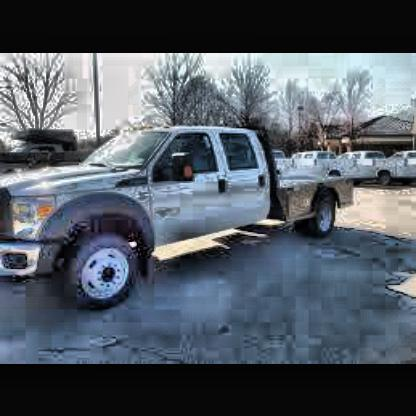Ford F-450 Super Duty Crew Cab 2012: (2, 123, 360, 317)
